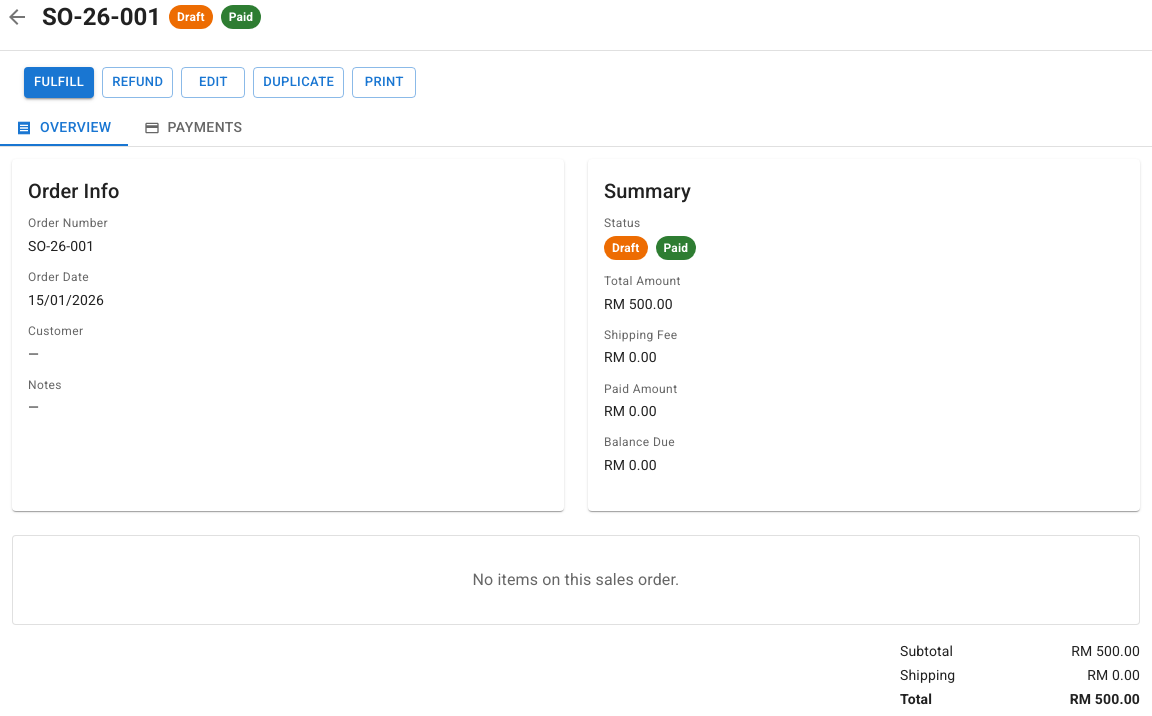
Scenario: SalesOrderDetailPage › shows confirm dialog when Fulfill is clicked
This screenshot has width=1152, height=716.
Click the button "Fulfill".
click(59, 82)  # box [24,67,94,98]
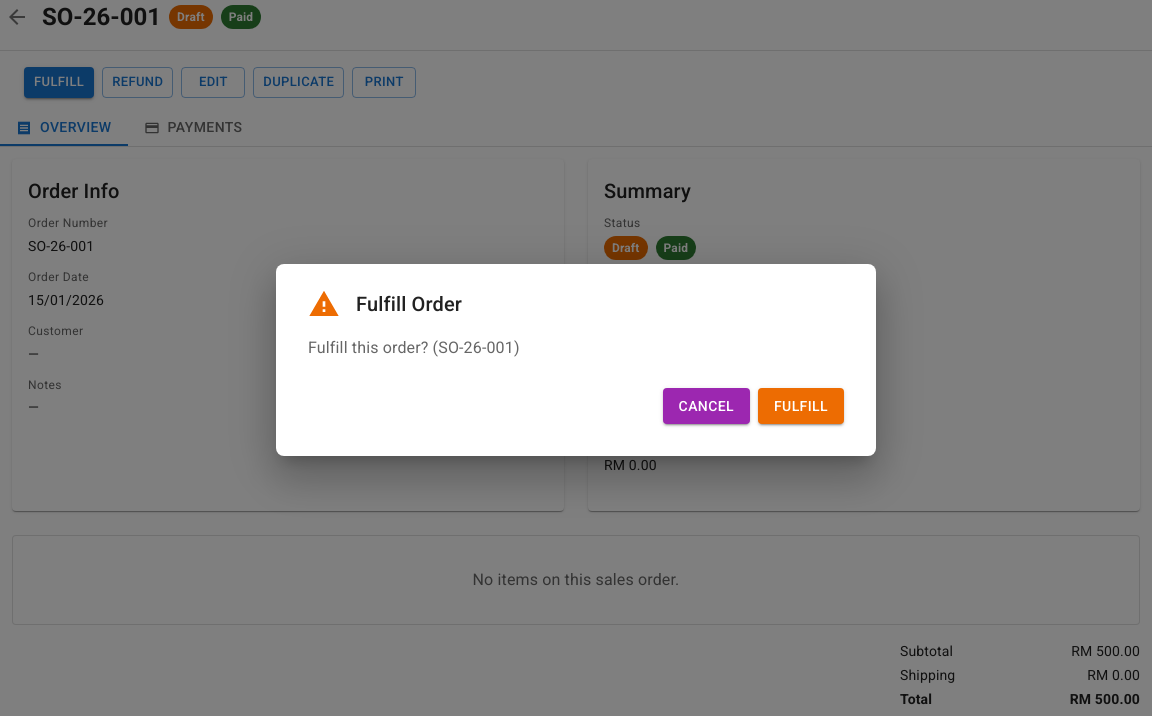
Now the text "Fulfill this order? (SO-26-001)" is shown, box [308,338,520,357]
